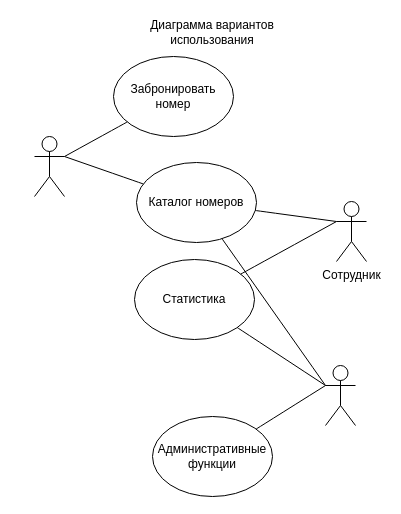
Some shapes in this 401 by 514 pixel diagram are drawn without their labels. Here are the shapes that lost their labels. From the top down, the box of each, then its label:
(34, 136, 64, 196): Посититель
(324, 364, 356, 426): Администратор
